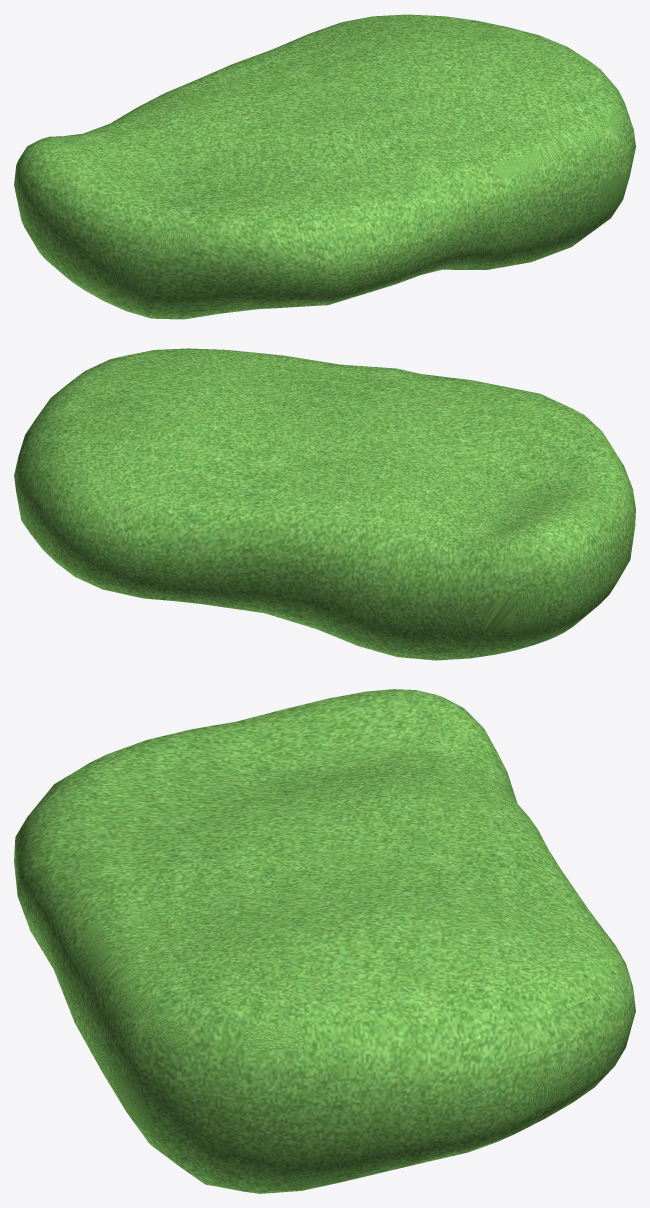
File: HikeGardenBeanB.obj
3 views of the same model, one above another, from view 1: azimuth 30°, elevation 25°; view 2: azimuth 150°, elevation 25°; view 3: azimuth 270°, elevation 25° (orthographic). The views are drawn at different scales.
Visible parts, largest first — view 1: mesh-0.001_meshId0_name.001; view 2: mesh-0.001_meshId0_name.001; view 3: mesh-0.001_meshId0_name.001.
Part boxes in pixels (x1,y1,x2,y2): mesh-0.001_meshId0_name.001: [14, 14, 635, 319]; mesh-0.001_meshId0_name.001: [14, 348, 635, 660]; mesh-0.001_meshId0_name.001: [14, 689, 635, 1193].
Size of the model in its own units: 7914 by 2323 by 5761.
1 material, 1 textured.
